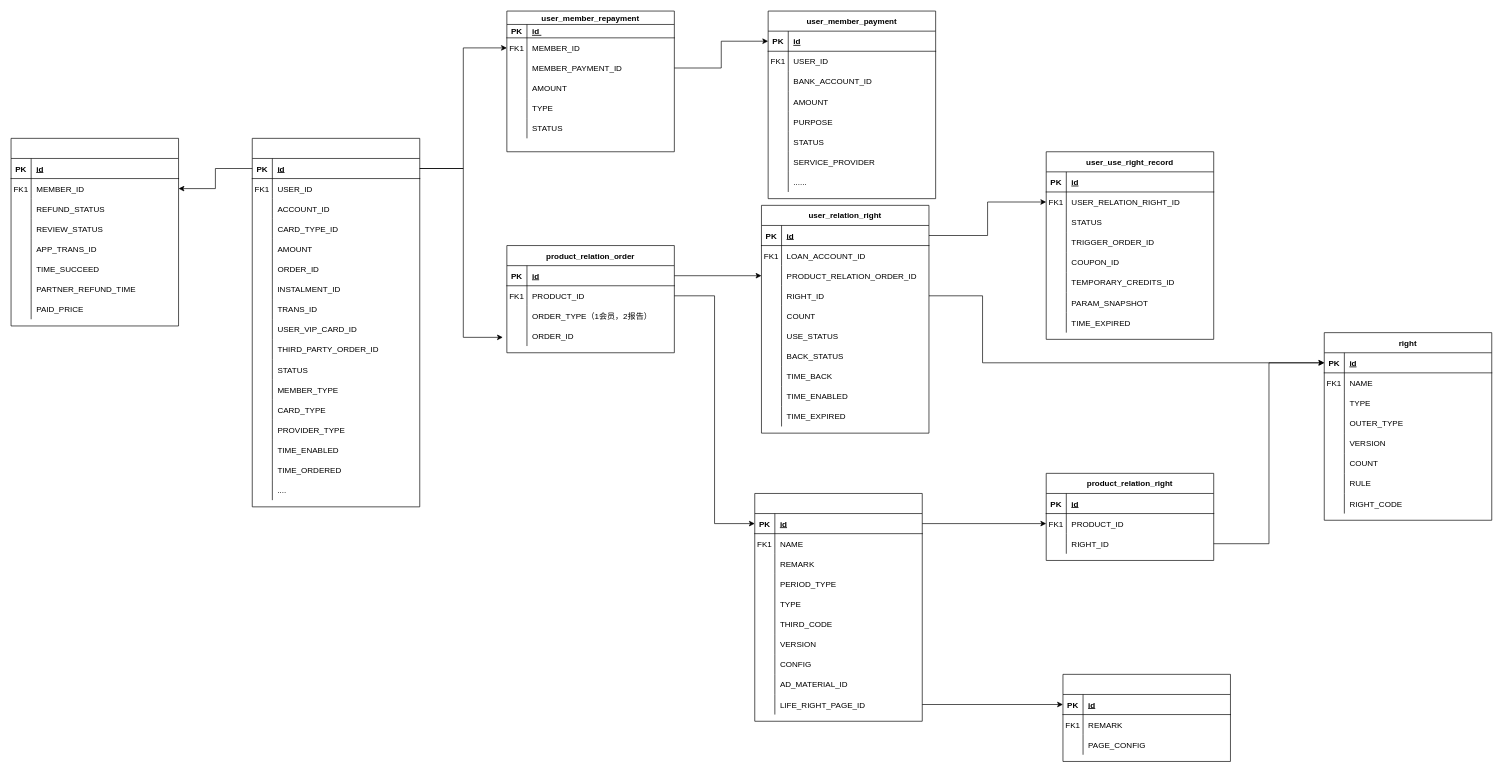
The diagram is 1503 pixels wide and 773 high, and some of its shapes have lost their labels. Here are the shapes that lost their labels. From the top down, the box of each, then its label:
(10, 138, 179, 326): user_member_refund
(252, 138, 420, 507): user_member
(754, 493, 922, 721): product
(1062, 674, 1230, 761): life_right_page
